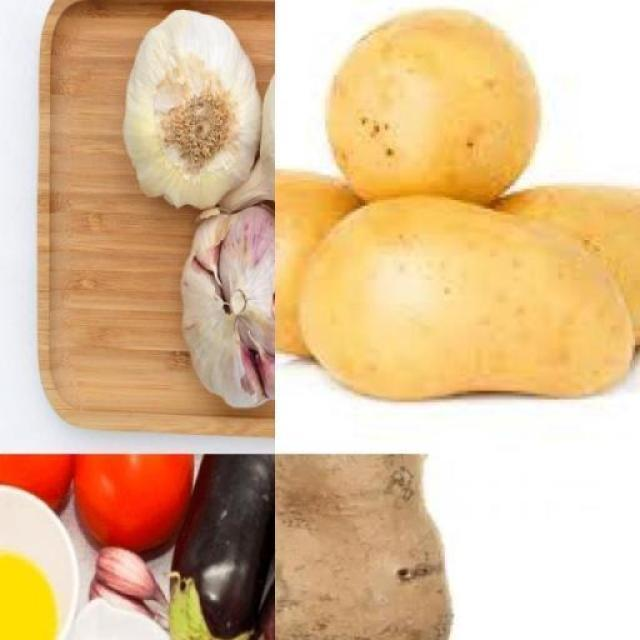Zucchini: (0, 454, 88, 618)
